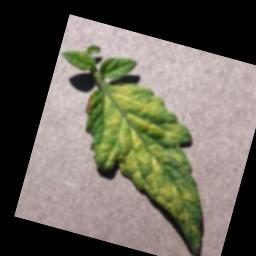Leaf_Mold: (68, 76, 240, 256), (83, 88, 99, 117)
